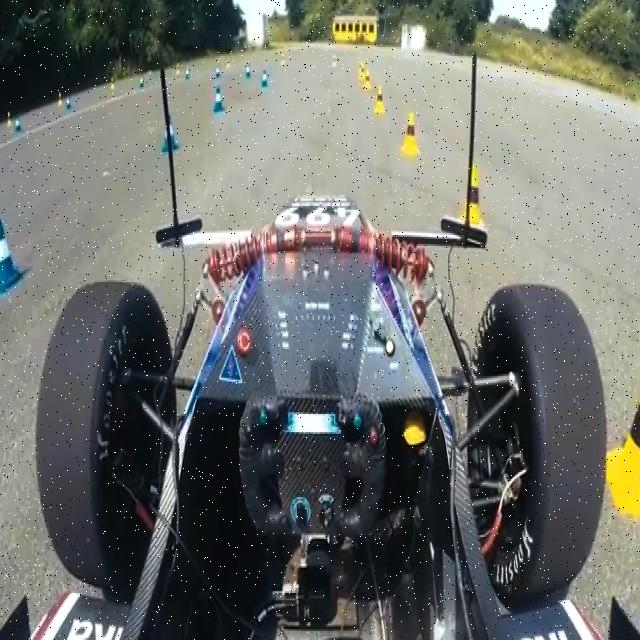blue_cone: (0, 193, 31, 309), (154, 106, 184, 161), (208, 80, 234, 136)
yellow_cone: (604, 342, 640, 522), (452, 156, 498, 234), (403, 100, 432, 174), (369, 80, 387, 126)
